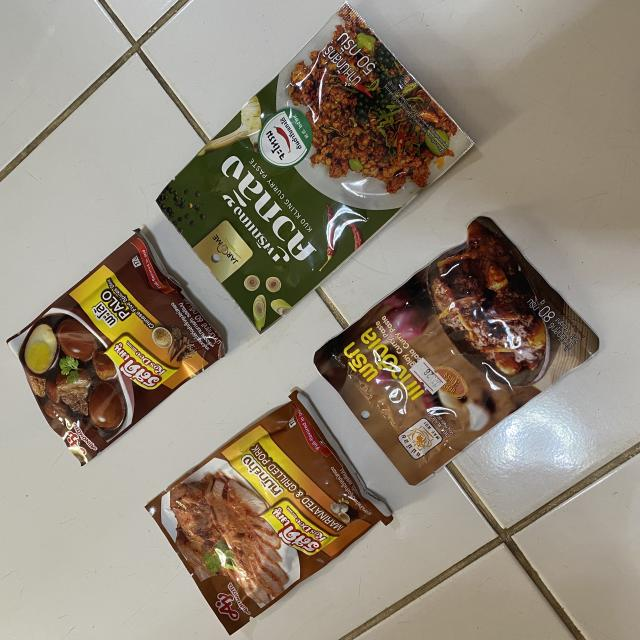plastik: (156, 4, 472, 333), (313, 217, 599, 485), (146, 391, 392, 635), (8, 230, 225, 465)
